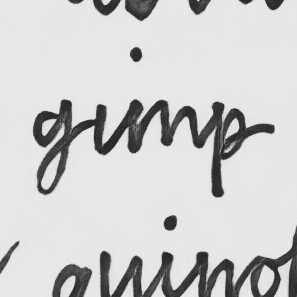g: (30, 97, 77, 196)
i: (88, 100, 113, 158)
m: (123, 95, 201, 157)
p: (206, 99, 250, 199)
